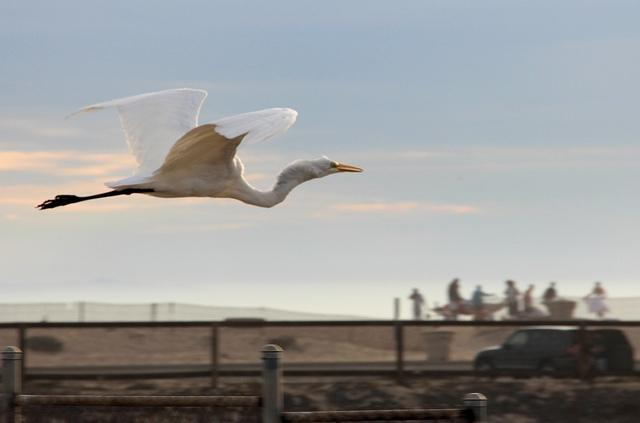car: (475, 324, 636, 381)
